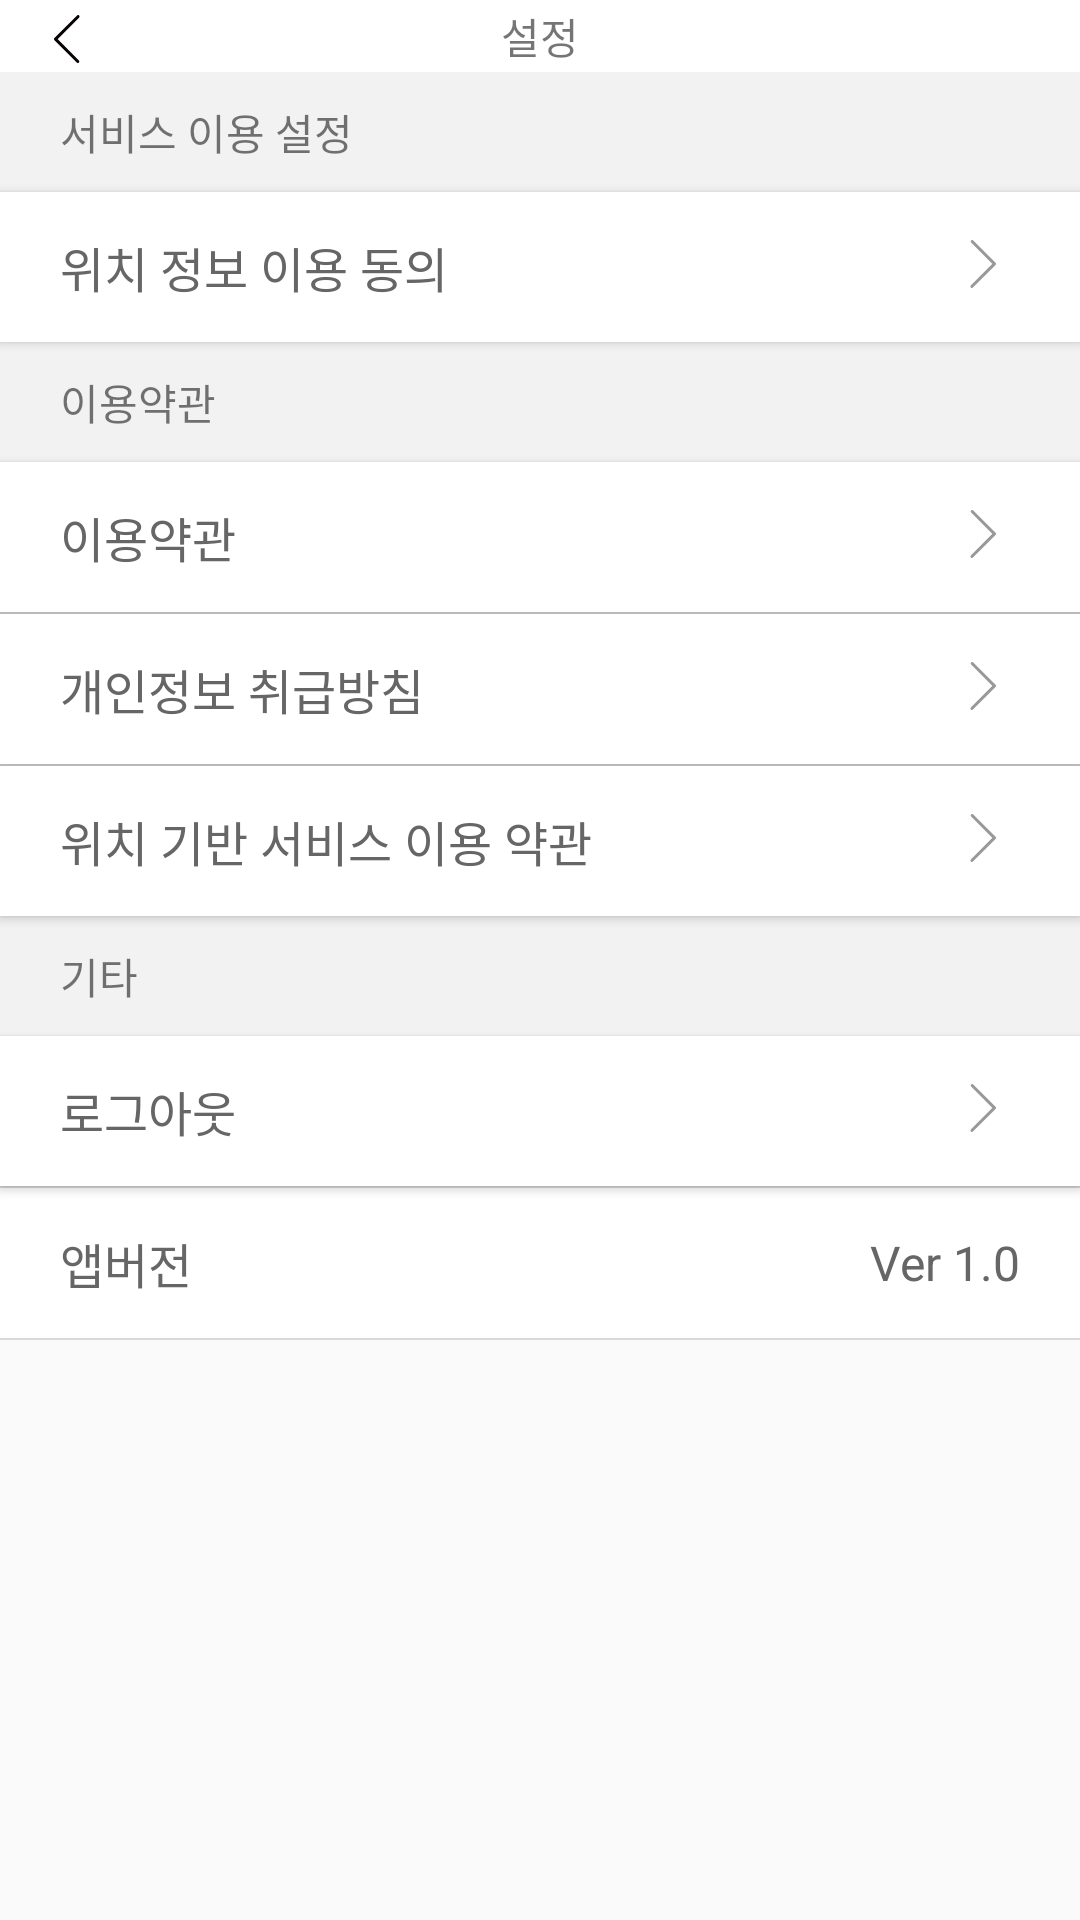

Icons on this 1080×1920 Android screen, each with its box as (x1, y1, x2, y2):
back: (54, 15, 80, 63)
